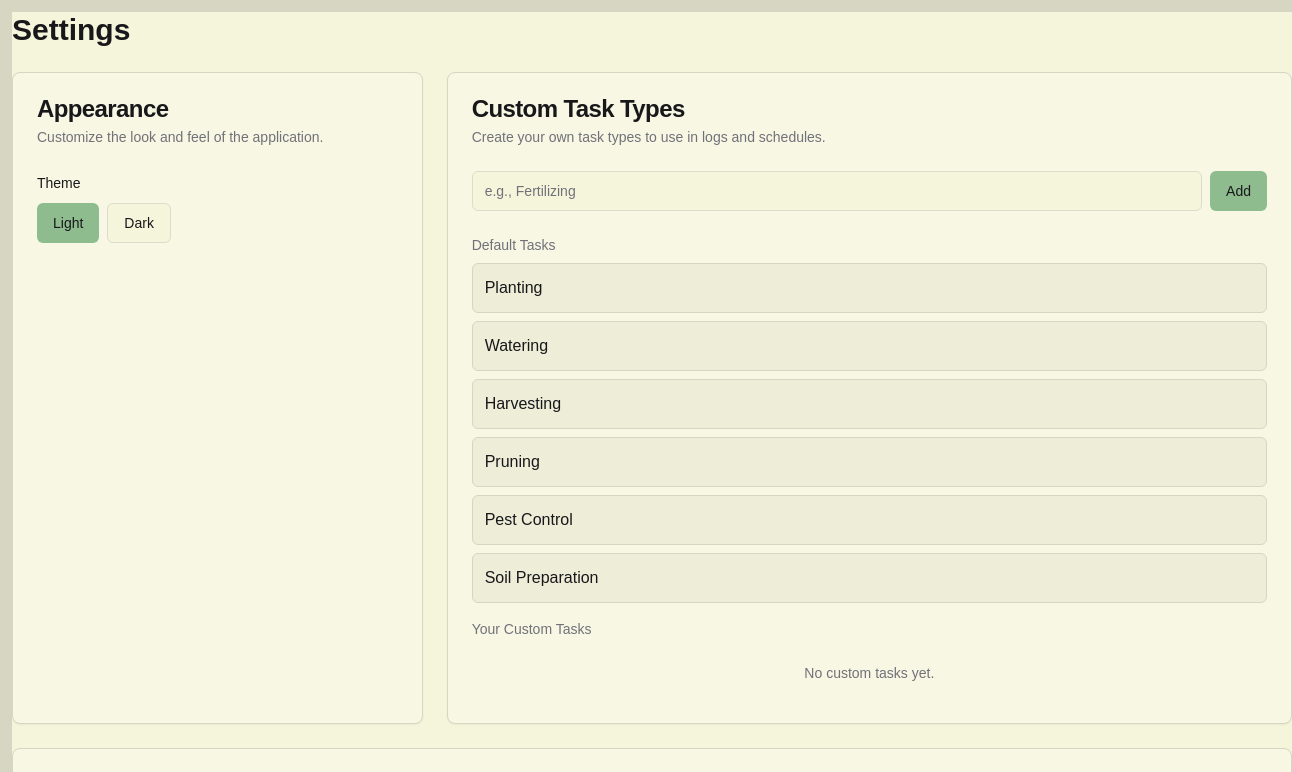
Test case: SettingsPage › allows a user to add a new custom task
Simulate user input
Type "New Test Task" into the field with placeholder "e.g., Fertilizing".
click(837, 191); type("New Test Task")  # box [472, 171, 1202, 211]
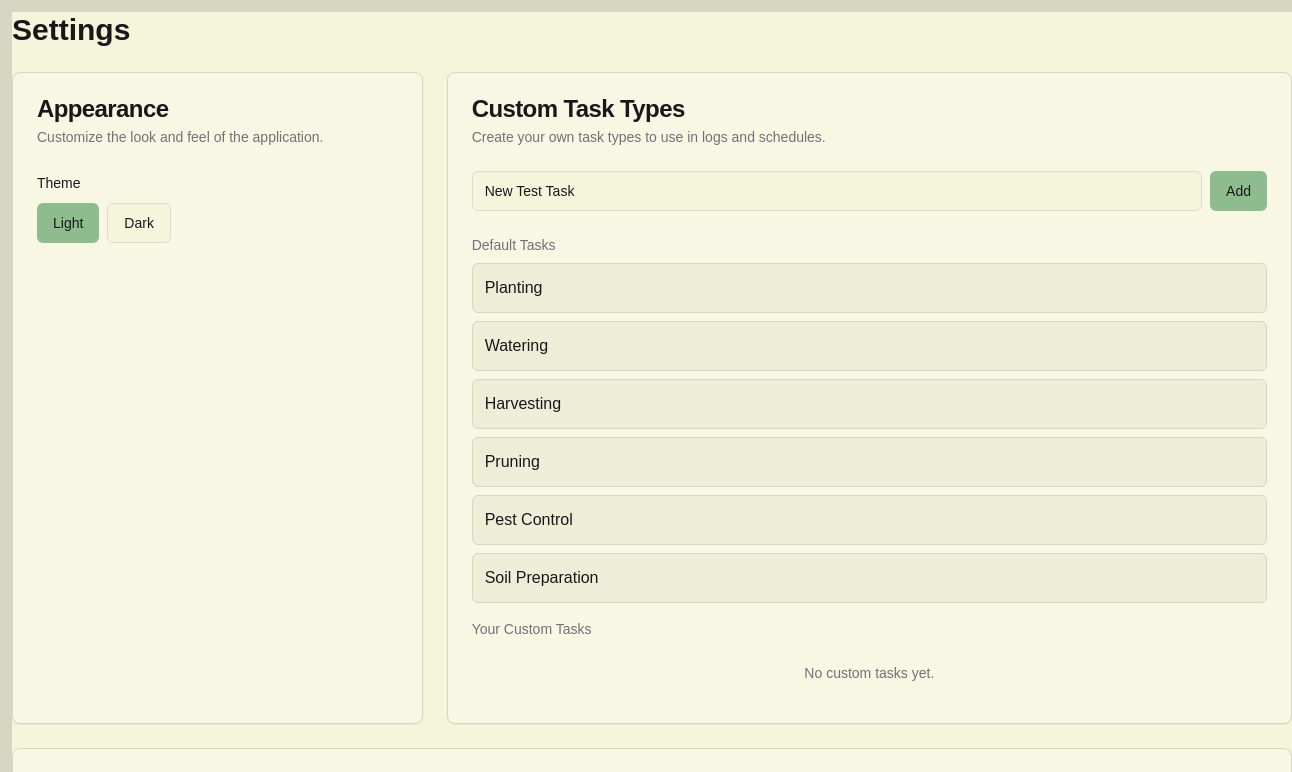
Click the button "Add".
click(1239, 191)  # box [1210, 171, 1267, 211]
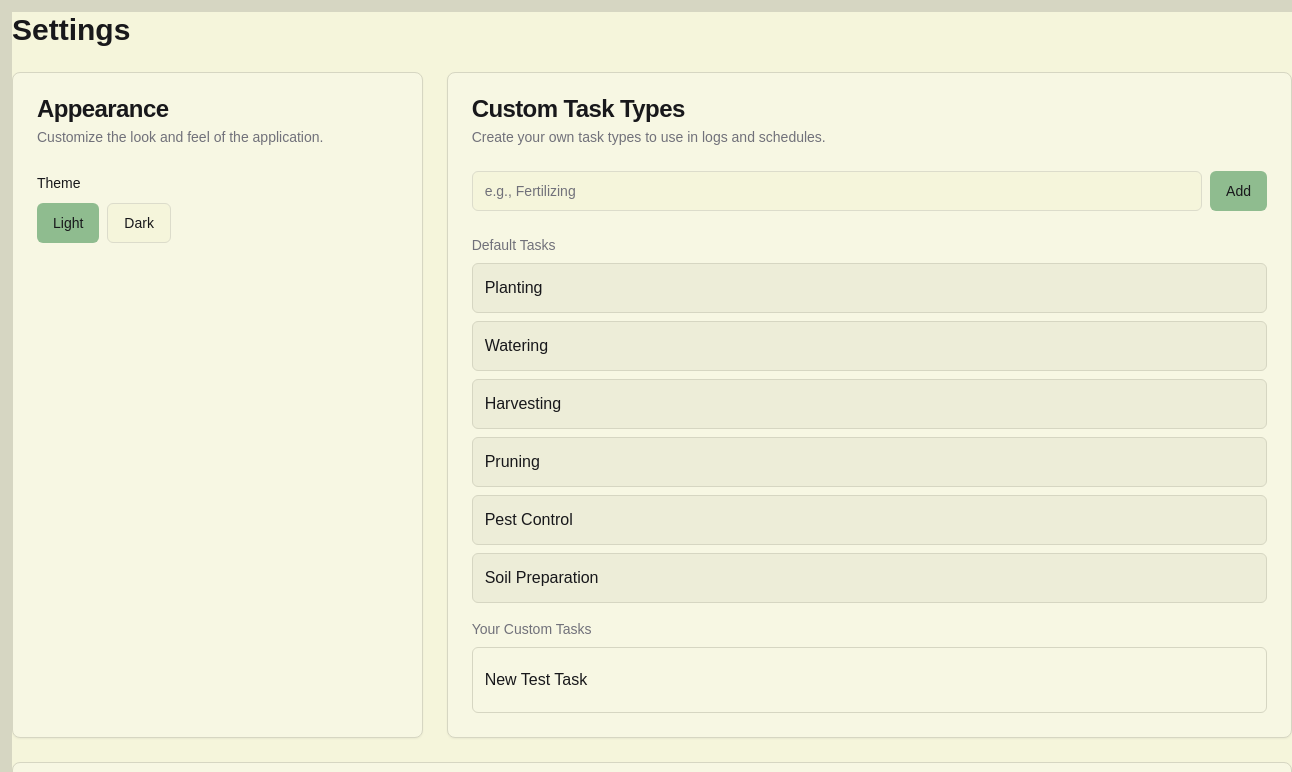
Check: the text "New Test Task" is shown, box [485, 668, 587, 692]
